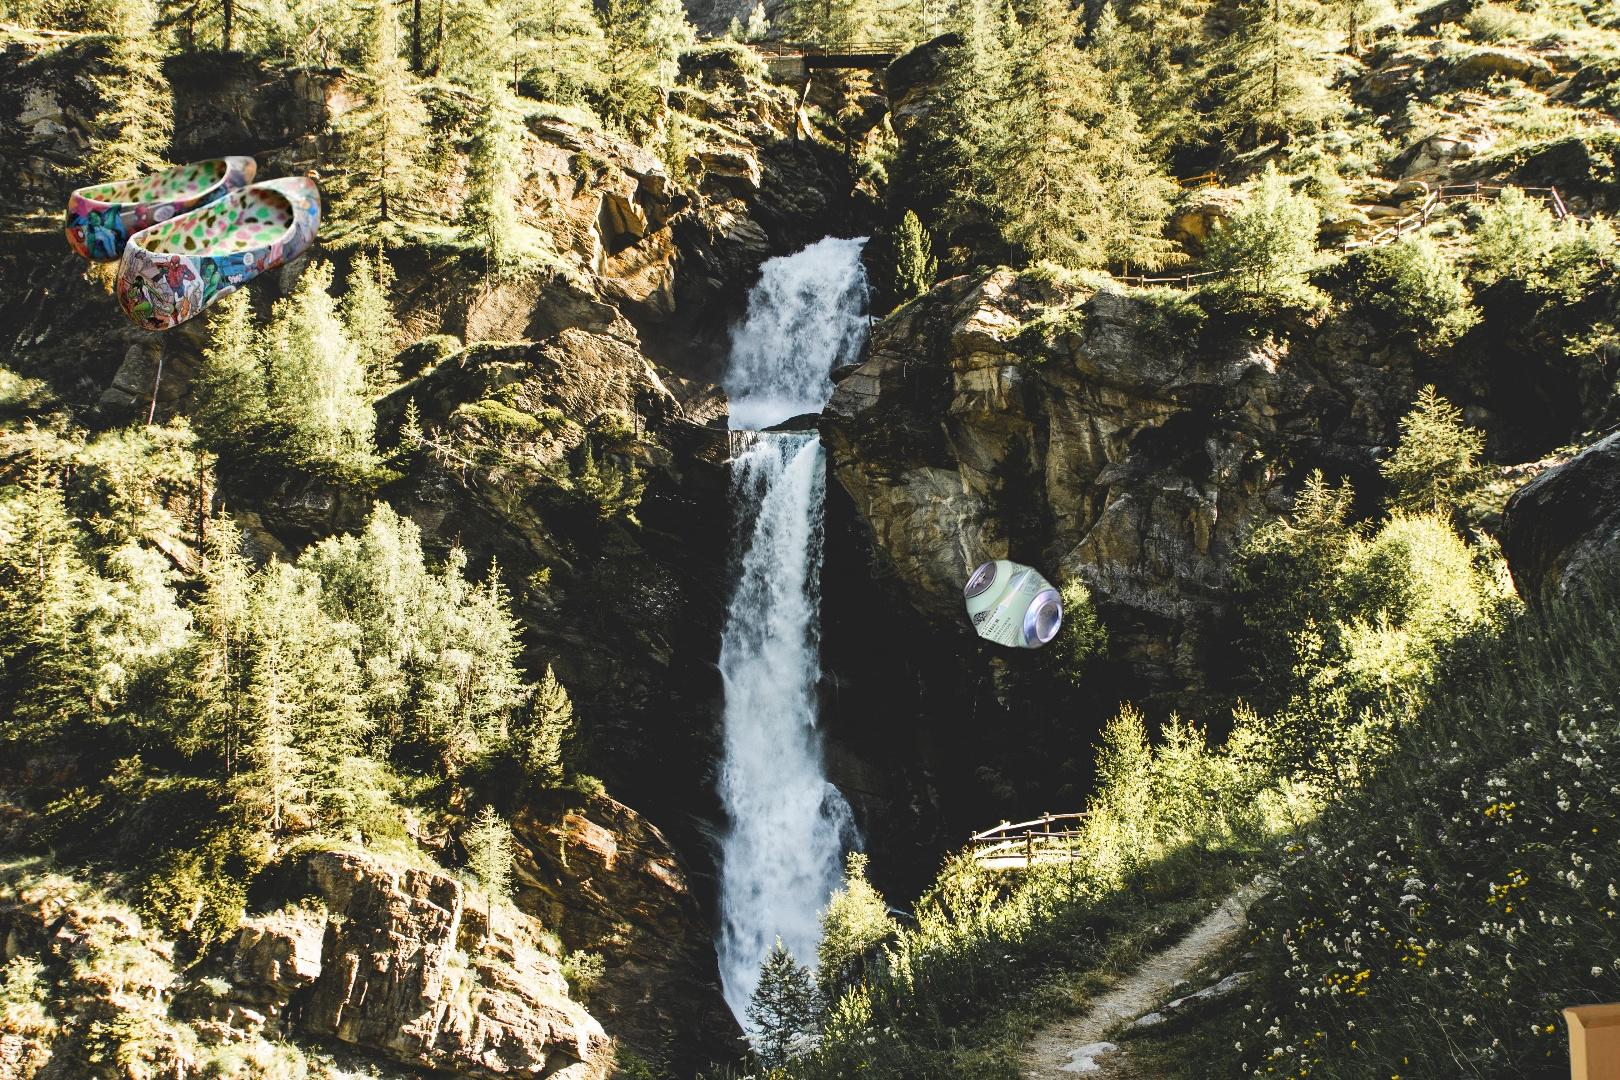metal-cans: (727, 218, 1239, 656)
paper-bag: (830, 1072, 1061, 1080)
shoes: (63, 155, 325, 334)
trashbox-cardboard: (1556, 990, 1620, 1080)
